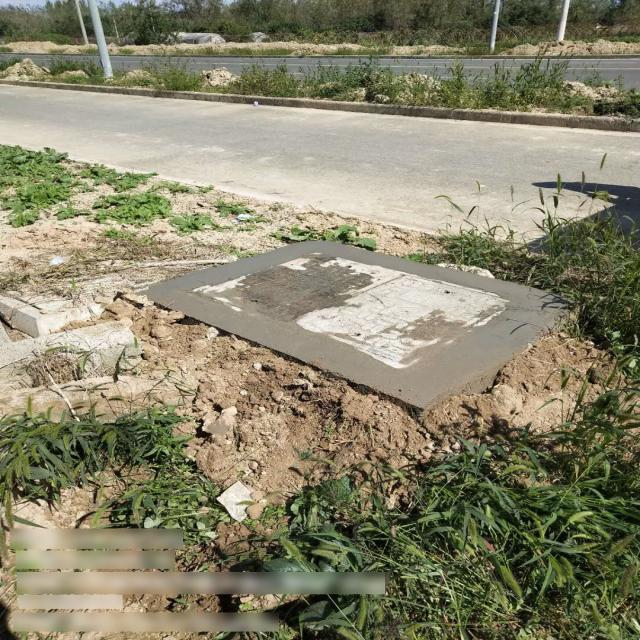Good: (180, 249, 517, 375)
